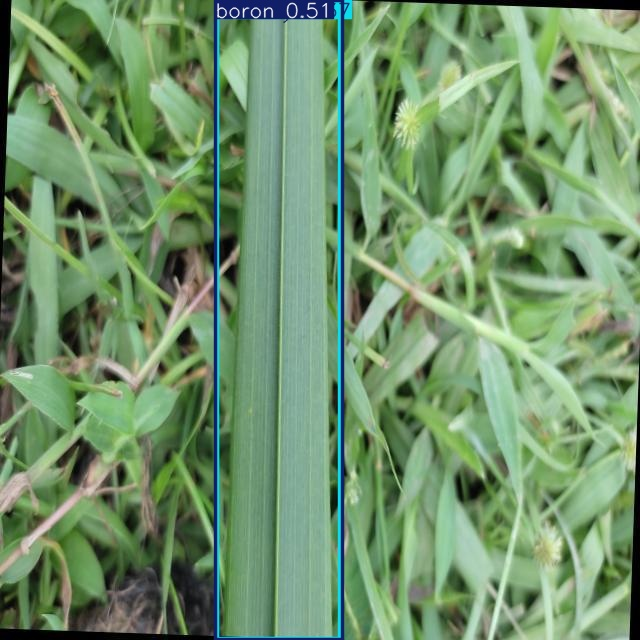Healthy: (217, 0, 339, 639)
nitrogen: (216, 0, 343, 640)
